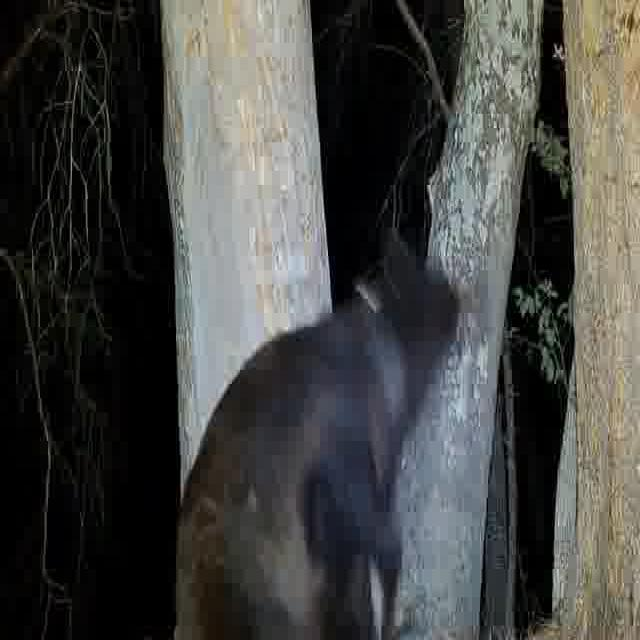bear face: (175, 231, 460, 640)
